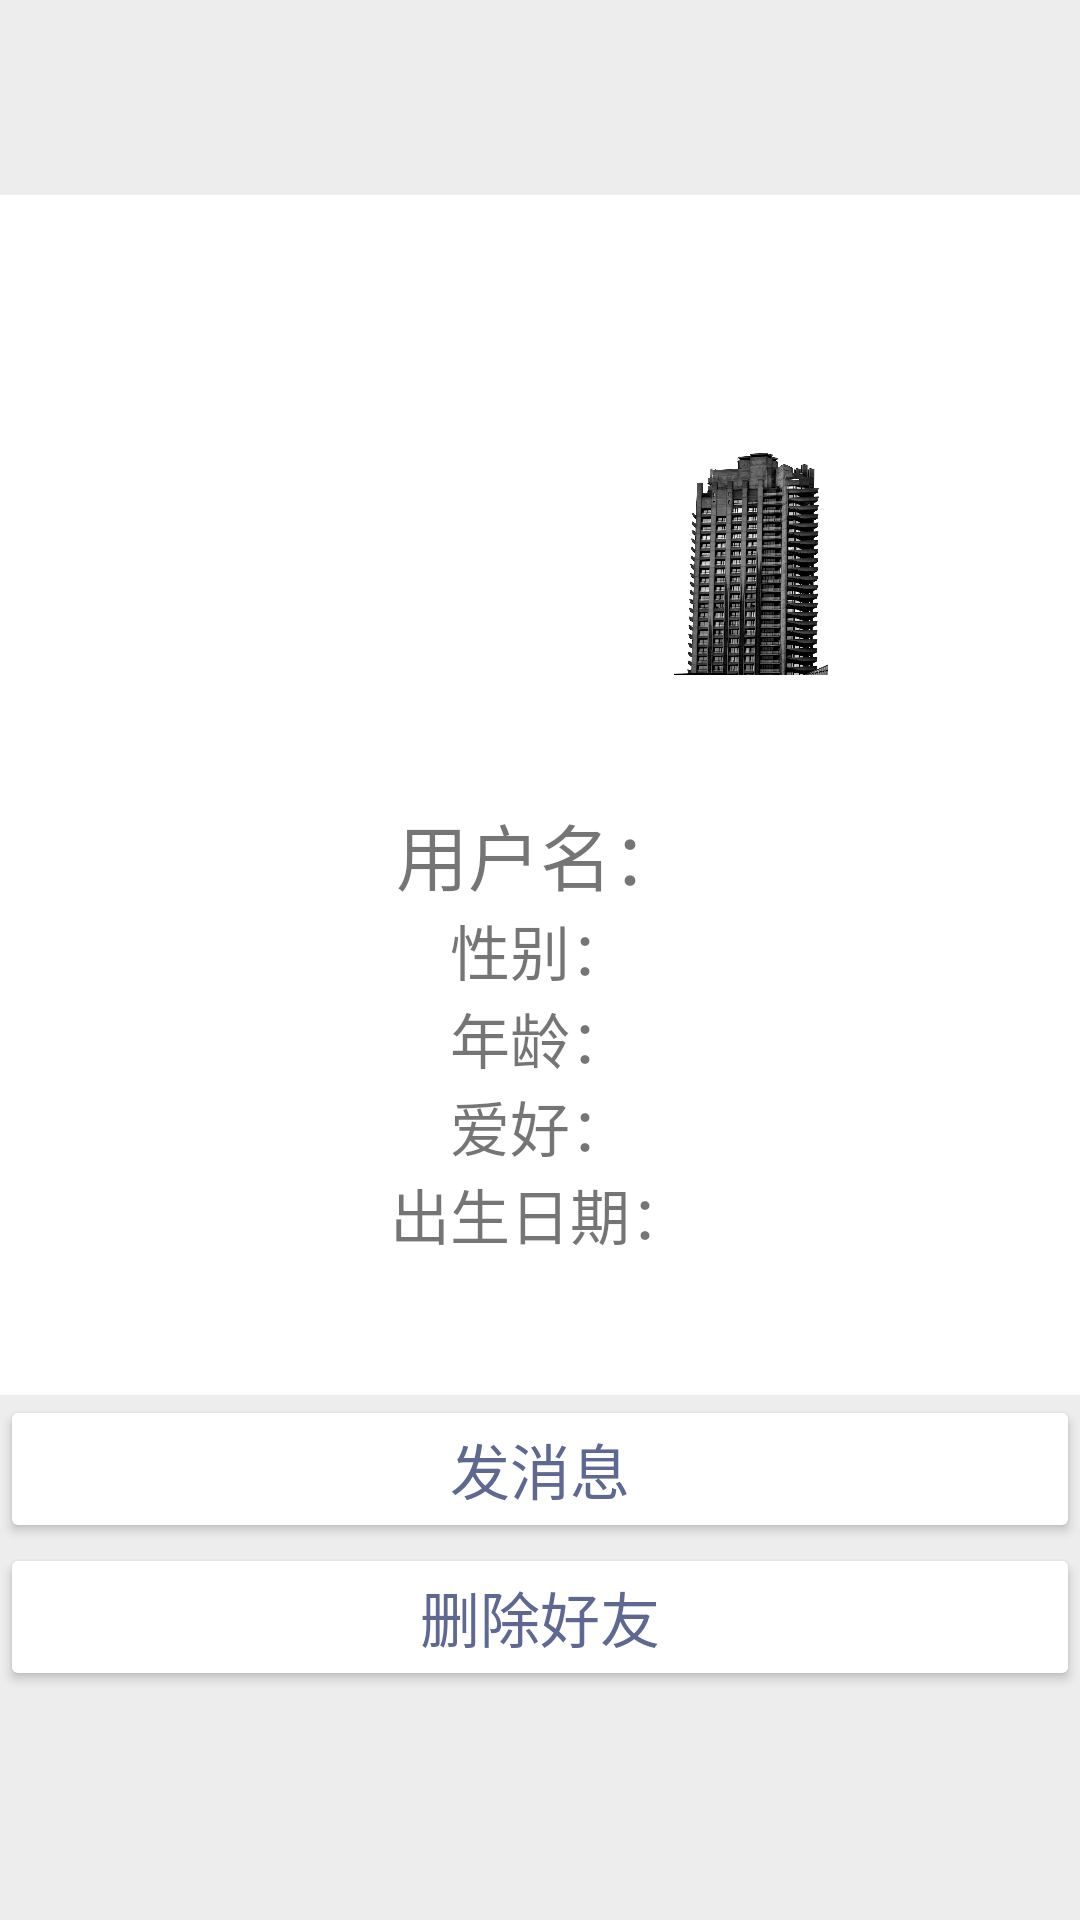

Where icons sit on this 1080x1920 app screen, as (x1, y1, x2, y2):
gaolou: (674, 453, 828, 675)
